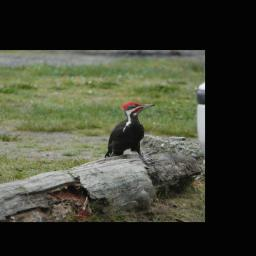Woodpecker: (104, 98, 155, 161)
